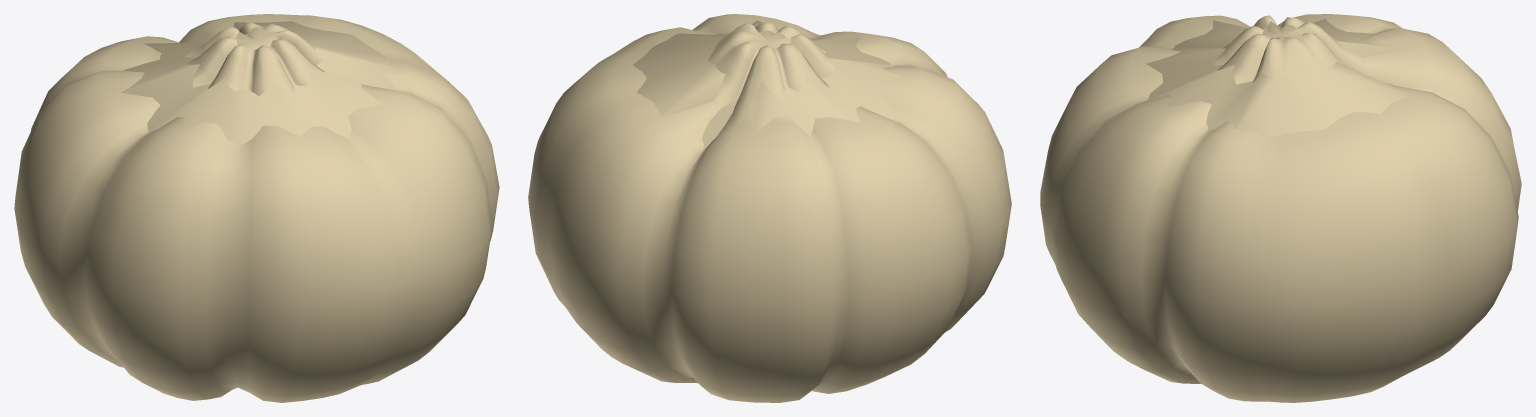
Rendered from Garlic_03.dae.
3 views of the same model, side by side, from view 1: azimuth 30°, elevation 25°; view 2: azimuth 150°, elevation 25°; view 3: azimuth 270°, elevation 25° (orthographic).
Parts seen in each view (by area): view 1: Garlic_03_LOD0, Garlic_033; view 2: Garlic_03_LOD0, Garlic_033; view 3: Garlic_03_LOD0, Garlic_033.
Part boxes in pixels (x1,y1,x2,y2): Garlic_03_LOD0: [14, 14, 499, 402]; Garlic_033: [121, 21, 489, 346]; Garlic_03_LOD0: [528, 14, 1011, 402]; Garlic_033: [540, 20, 908, 240]; Garlic_03_LOD0: [1040, 14, 1521, 402]; Garlic_033: [1060, 19, 1412, 349].
Size of what is drawn, in the model's own units: 4.56 by 4.46 by 3.35.
